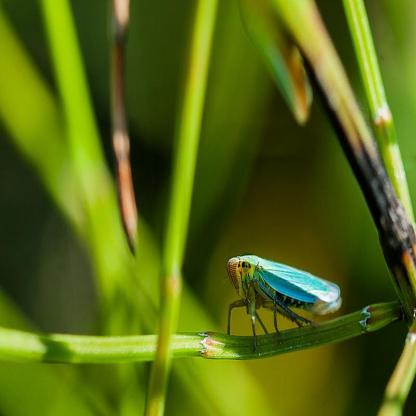Green-Leafhopper: (223, 254, 346, 354)
